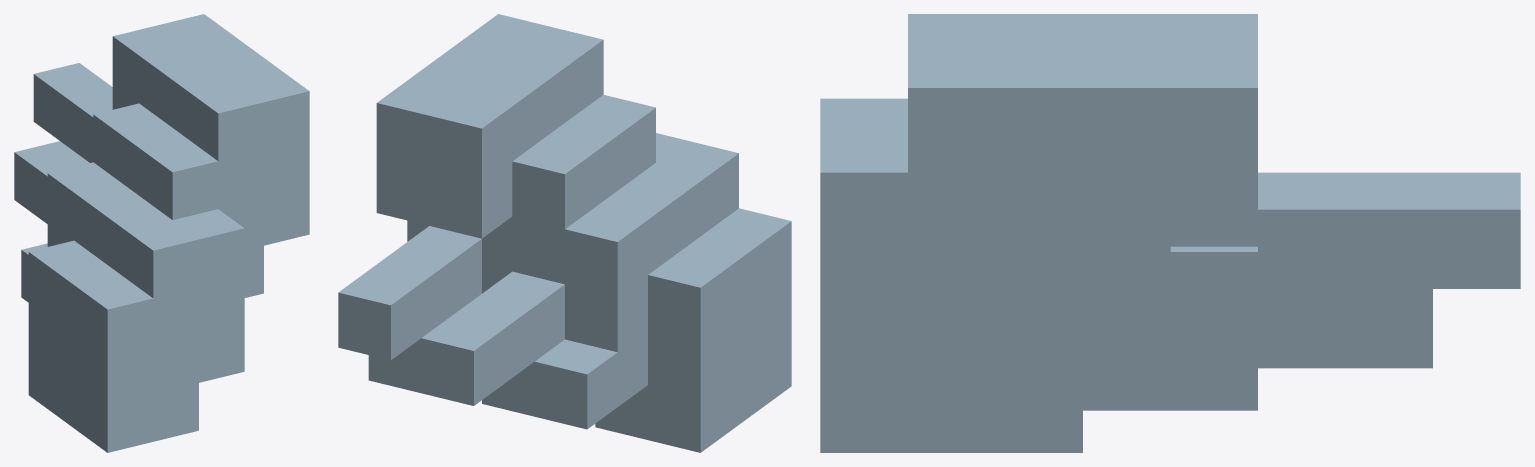
Rendered from bee__wing_l.glb.
3 renders of one model, left to right at view 1: azimuth 30°, elevation 25°; view 2: azimuth 150°, elevation 25°; view 3: azimuth 270°, elevation 25°, orthographic. The views are drawn at different scales.
Visible parts, largest first — view 1: bee__wing_l; view 2: bee__wing_l; view 3: bee__wing_l.
Boxes of the visible parts, x1,y1,x2,y2 form: bee__wing_l: (14, 14, 309, 452); bee__wing_l: (338, 14, 791, 452); bee__wing_l: (820, 14, 1520, 452).
Bounding box in the file's own units: 0.5 × 0.6 × 0.8.
Materials: 1 (1 with a texture image).
